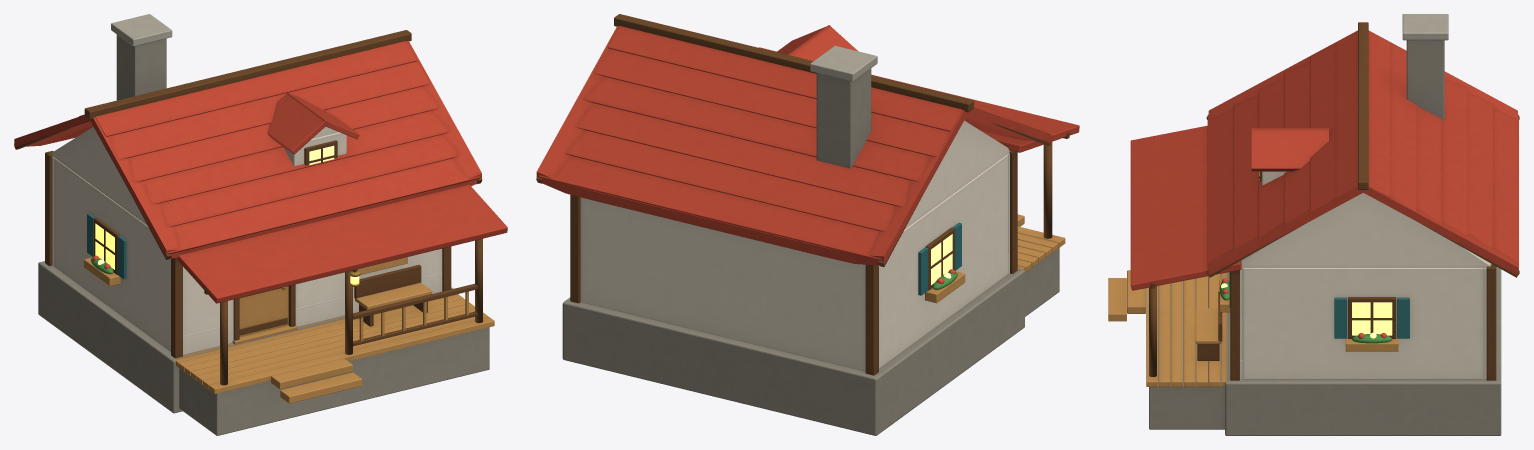
File: house_player.glb
The picture shows the model from 3 angles, left to right: view 1: azimuth 30°, elevation 25°; view 2: azimuth 150°, elevation 25°; view 3: azimuth 270°, elevation 25°; orthographic projection. The views are drawn at different scales.
Parts seen in each view (by area): view 1: Porch_Awning, Porch_Plinth, Wall_Left, Foundation_Base, ShingleRow_-1_0, ShingleRow_-1_1, ShingleRow_-1_4, ShingleRow_-1_5, ShingleRow_-1_2, ShingleRow_-1_3, H1_Roof, Roof_RidgeBeam (+30 smaller); view 2: Wall_Back, Foundation_Base, Wall_Left, ShingleRow_1_0, ShingleRow_1_2, ShingleRow_1_1, H1_Roof, ShingleRow_1_3, ShingleRow_1_4, ShingleRow_1_5, Chimney_Shaft, Roof_RidgeBeam (+10 smaller); view 3: Wall_Right, Foundation_Base, Porch_Awning, H1_Gables, H1_Roof, Porch_Plinth, ShingleRow_1_1, ShingleRow_1_2, ShingleRow_-1_0, ShingleRow_1_0, ShingleRow_-1_4, ShingleRow_-1_5 (+29 smaller).
Part boxes in pixels (bbox=[...]): Porch_Awning: bbox=[176, 184, 507, 303]; Porch_Plinth: bbox=[179, 327, 489, 435]; Wall_Left: bbox=[53, 157, 170, 352]; Foundation_Base: bbox=[38, 261, 458, 413]; ShingleRow_-1_0: bbox=[168, 158, 480, 254]; ShingleRow_-1_1: bbox=[160, 134, 459, 226]; ShingleRow_-1_4: bbox=[110, 61, 429, 159]; ShingleRow_-1_5: bbox=[95, 41, 417, 136]; ShingleRow_-1_2: bbox=[143, 111, 450, 204]; ShingleRow_-1_3: bbox=[129, 86, 440, 182]; H1_Roof: bbox=[14, 40, 481, 258]; Roof_RidgeBeam: bbox=[84, 30, 411, 119]; Wall_Back: bbox=[580, 197, 865, 371]; Foundation_Base: bbox=[562, 268, 1024, 435]; Wall_Left: bbox=[879, 154, 1007, 368]; ShingleRow_1_0: bbox=[538, 156, 881, 260]; ShingleRow_1_2: bbox=[574, 103, 909, 206]; ShingleRow_1_1: bbox=[564, 130, 894, 231]; H1_Roof: bbox=[536, 25, 1051, 265]; ShingleRow_1_3: bbox=[582, 77, 929, 181]; ShingleRow_1_4: bbox=[594, 49, 948, 156]; ShingleRow_1_5: bbox=[607, 26, 962, 131]; Chimney_Shaft: bbox=[816, 68, 871, 168]; Roof_RidgeBeam: bbox=[614, 14, 973, 112]; Wall_Right: bbox=[1242, 268, 1483, 379]; Foundation_Base: bbox=[1225, 266, 1501, 435]; Porch_Awning: bbox=[1130, 125, 1241, 290]; H1_Gables: bbox=[1241, 193, 1491, 267]; H1_Roof: bbox=[1208, 30, 1517, 275]; Porch_Plinth: bbox=[1149, 273, 1224, 429]; ShingleRow_1_1: bbox=[1468, 94, 1493, 249]; ShingleRow_1_2: bbox=[1442, 79, 1467, 236]; ShingleRow_-1_0: bbox=[1207, 110, 1232, 270]; ShingleRow_1_0: bbox=[1493, 109, 1518, 270]; ShingleRow_-1_4: bbox=[1310, 46, 1335, 211]; ShingleRow_-1_5: bbox=[1335, 31, 1357, 197].
Size of the model in its own units: 6.42 by 5.69 by 6.97.
Materials: 4 (1 with a texture image).
